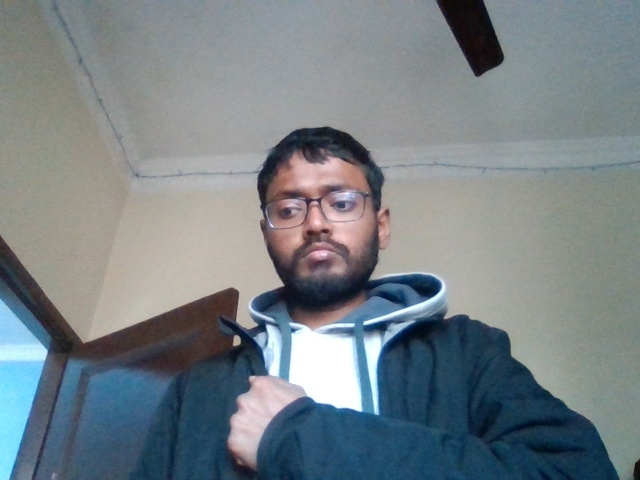sorry: (226, 366, 364, 469)
